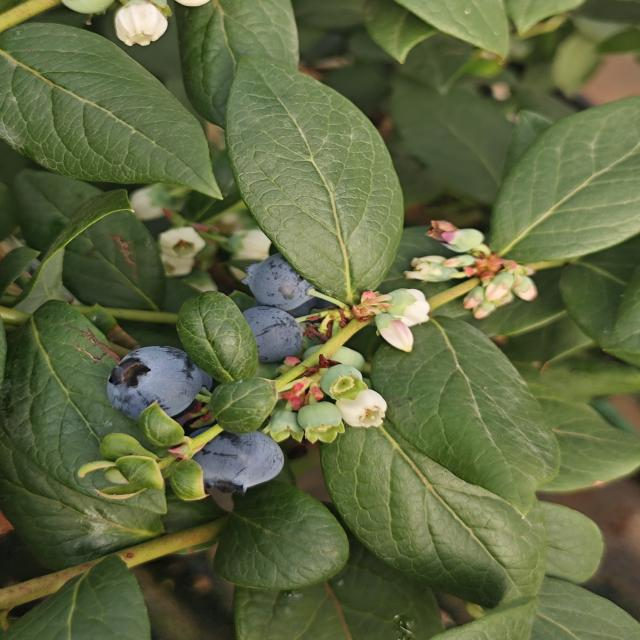ripe: (103, 344, 212, 423), (184, 426, 288, 497), (240, 251, 320, 315), (239, 304, 305, 365)
